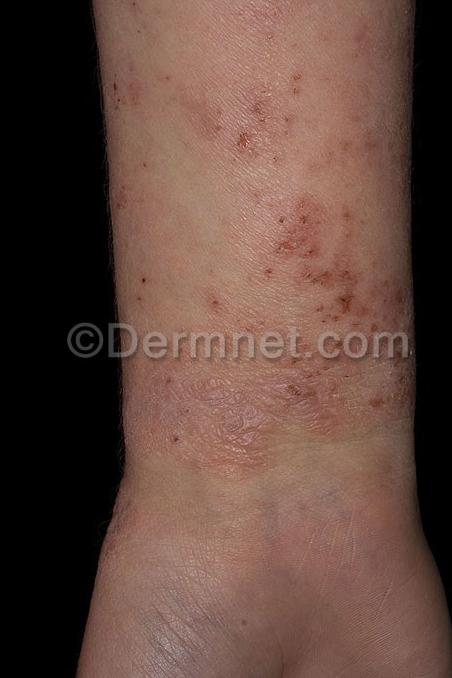excoriacion 1: (210, 63, 412, 357)
exudacion 1: (96, 0, 418, 449)
xerosis 1: (104, 365, 413, 479)
